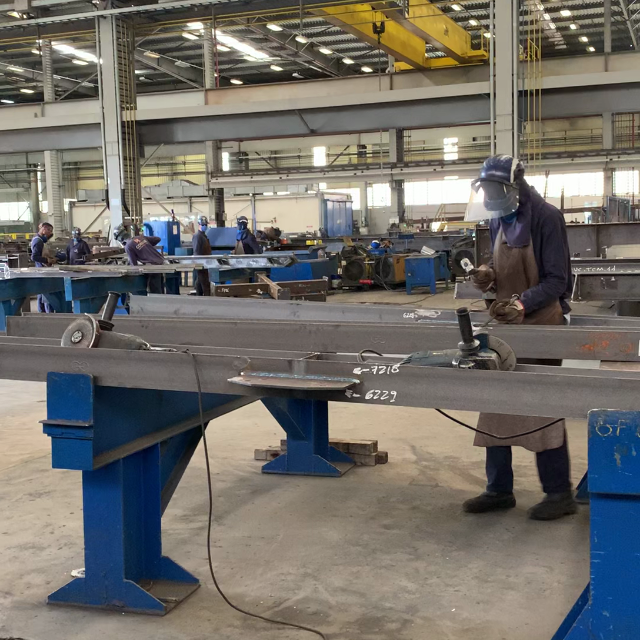face-shield: (460, 181, 519, 220)
glove: (487, 298, 524, 323), (469, 265, 495, 292)
helmet: (469, 153, 525, 190)
person: (461, 153, 579, 518)
safety-shoe: (526, 489, 578, 518), (462, 491, 516, 514)
